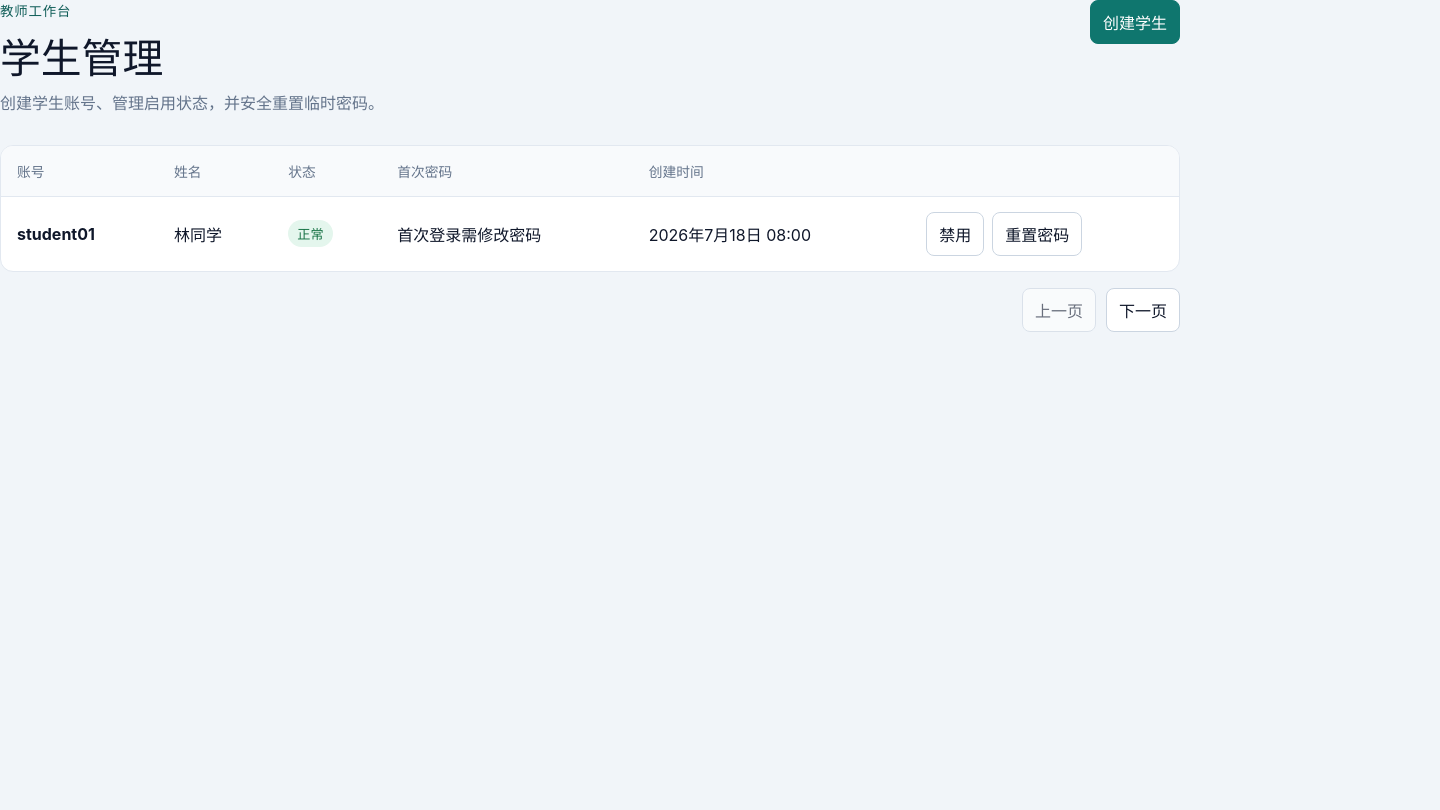
StudentListView › refreshes the canonical first page after creating from a later cursor without local prepending
Click the button with aria-label "下一页学生" at x=1143, y=310, box [1106, 288, 1180, 332]
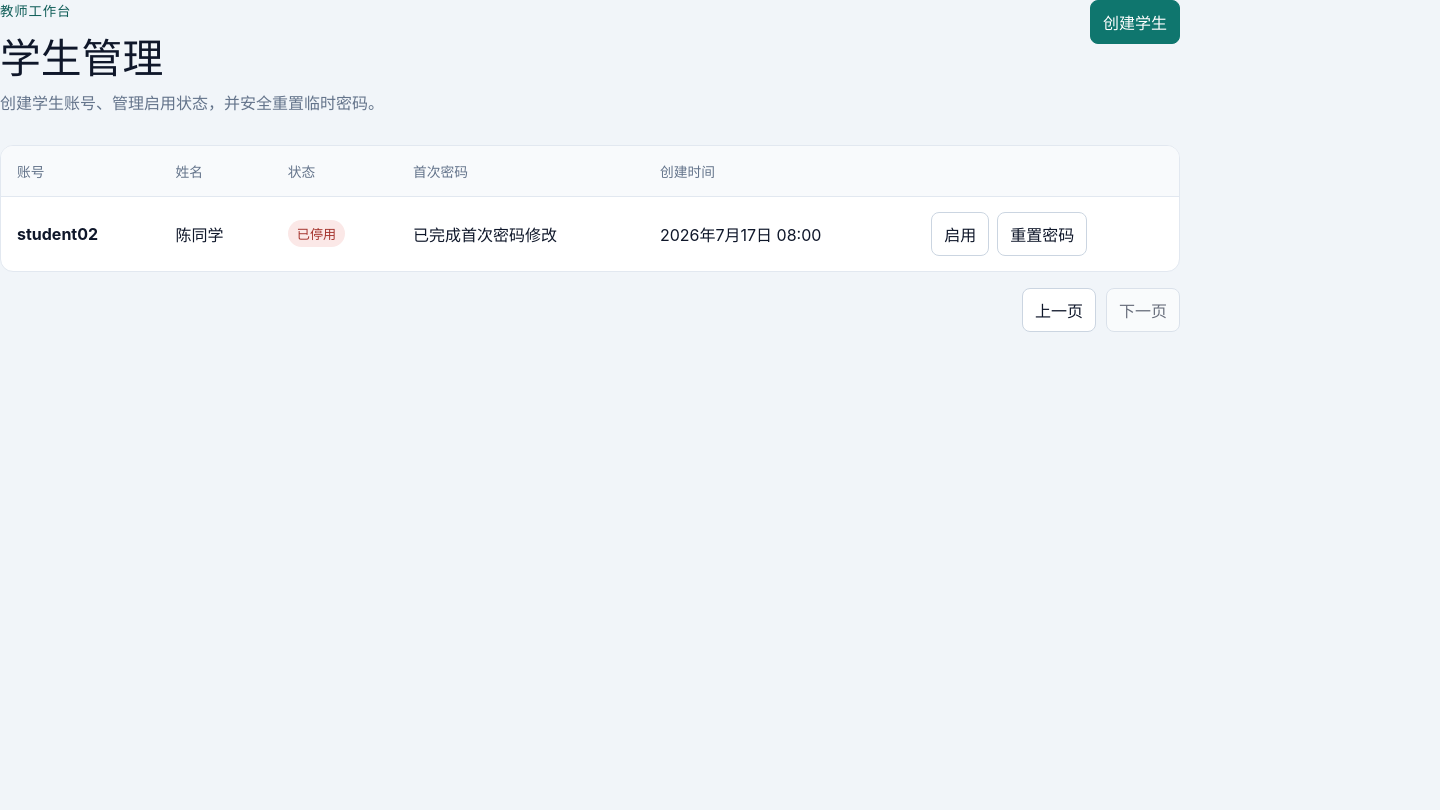
Click the button with aria-label "创建学生" at x=1135, y=22, box [1090, 0, 1180, 44]
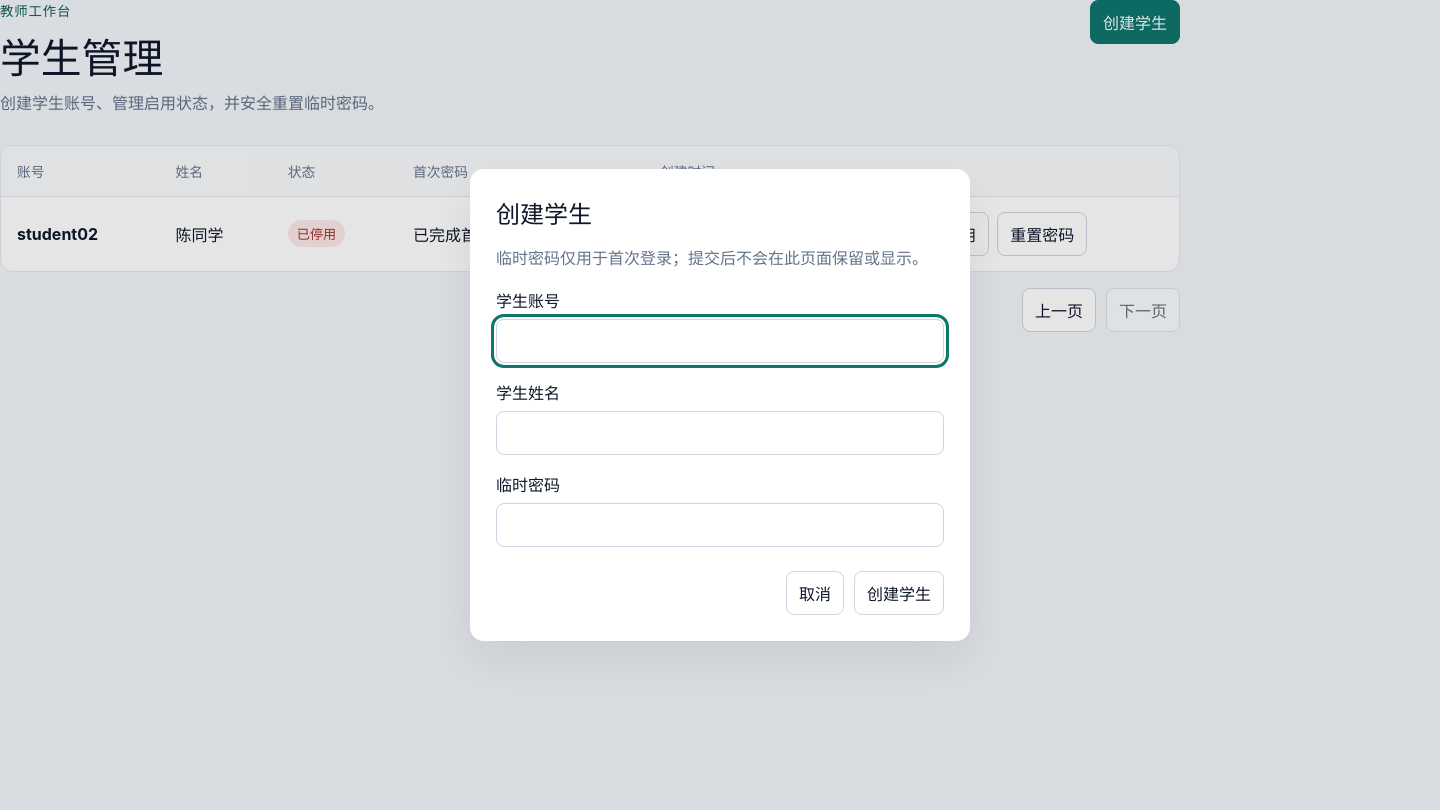
Type "student03" into the field named "学生账号" at x=720, y=341, box [496, 319, 944, 363]
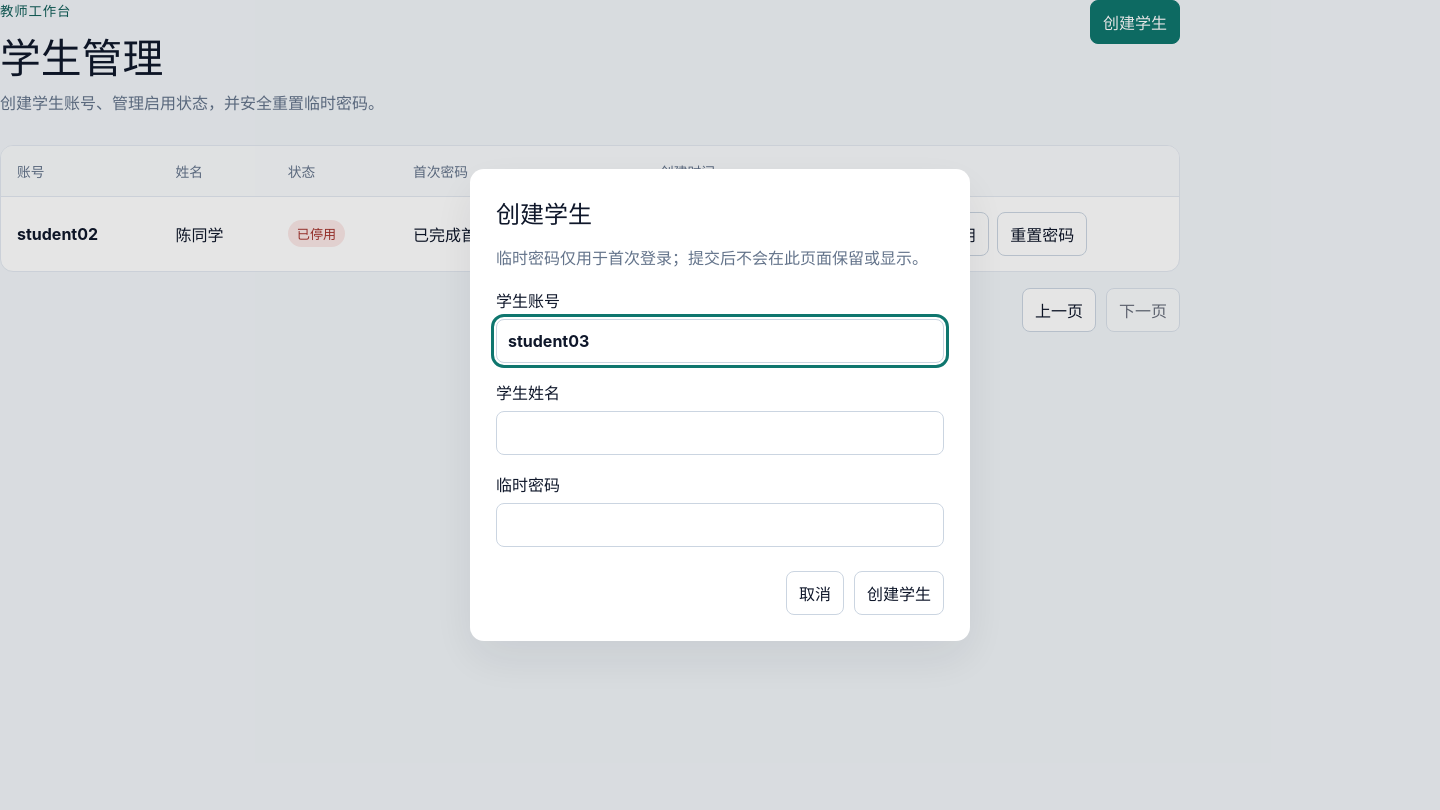
Type "周同学" into the field named "学生姓名" at x=720, y=433, box [496, 411, 944, 455]
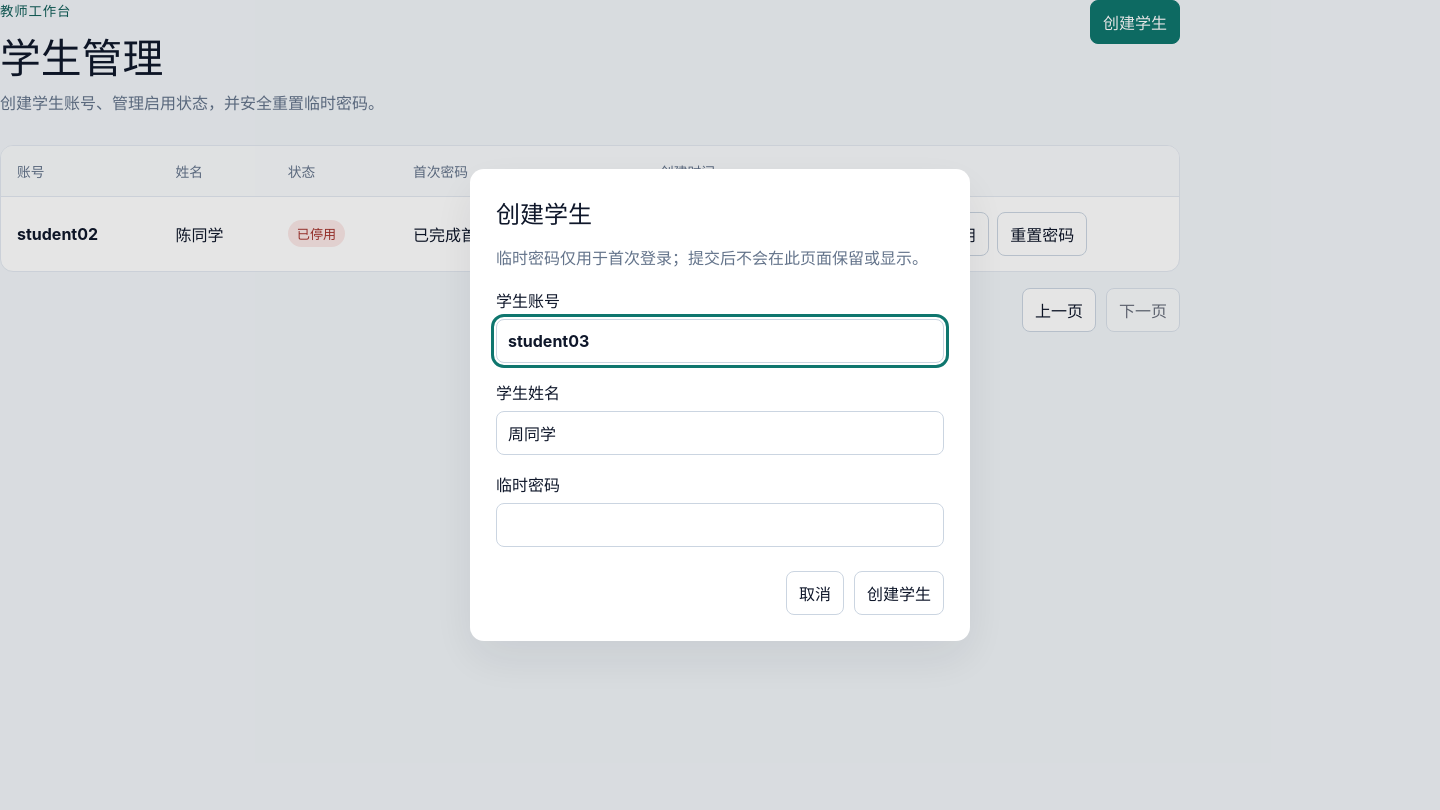
Type "Temporary Password 42!" into the password field named "临时密码" at x=720, y=525, box [496, 503, 944, 547]
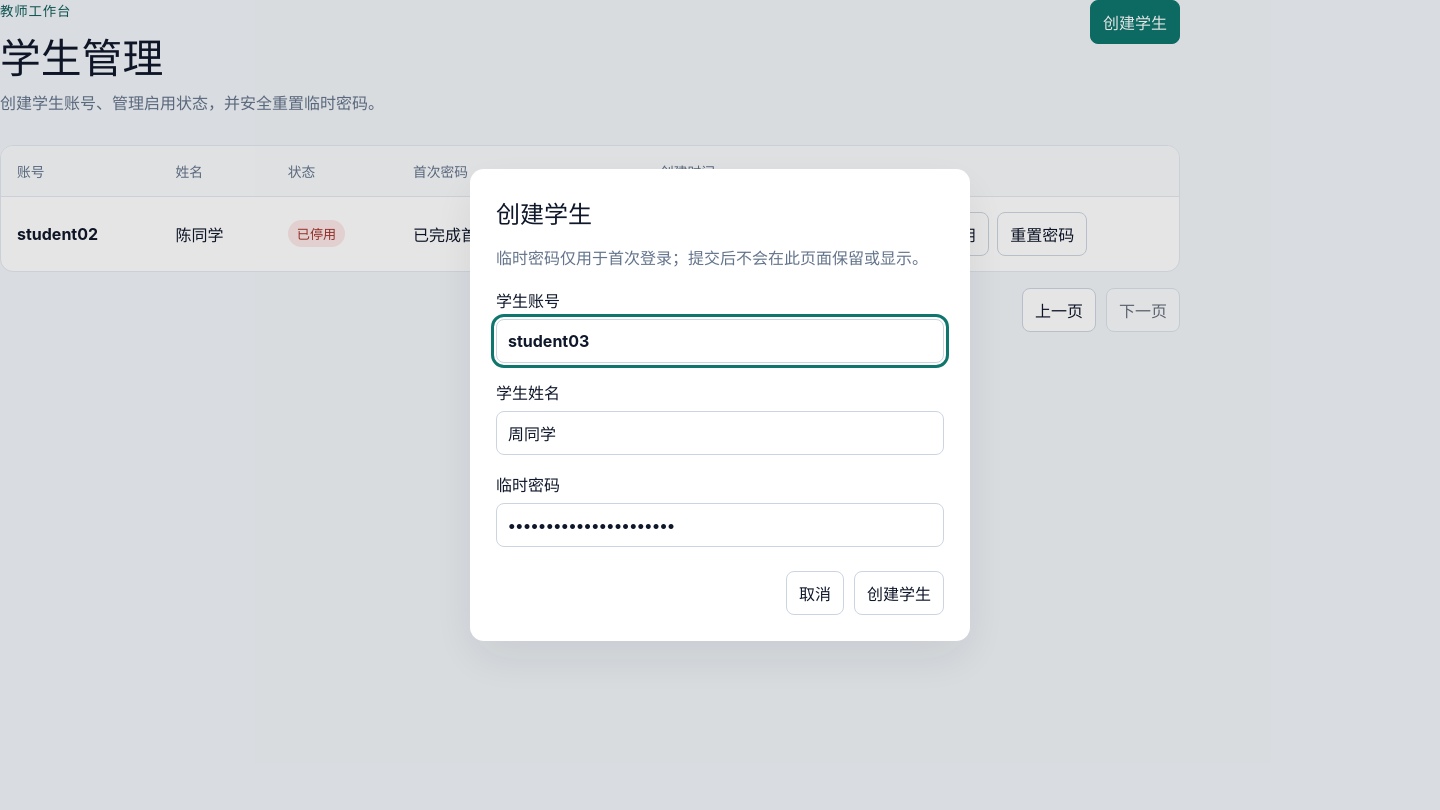
Submit the form, box [496, 288, 944, 615]
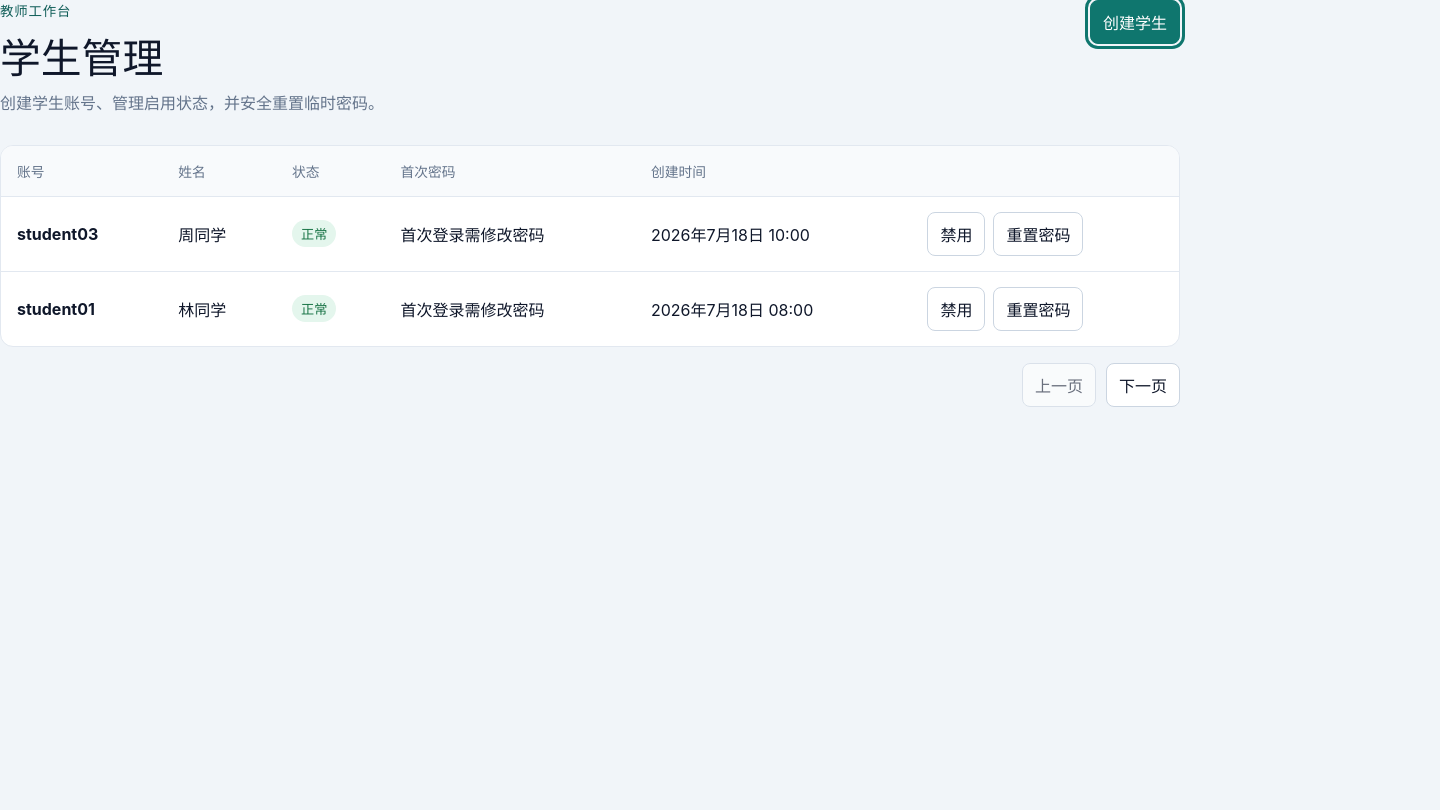
Check: the text "student03" is shown, box [17, 224, 98, 244]
Check: the text "student02" is gone
